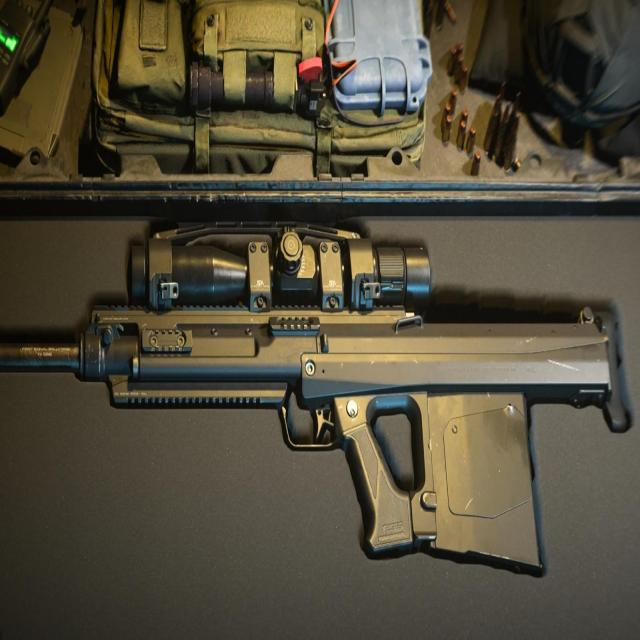weapon: (1, 220, 628, 576)
